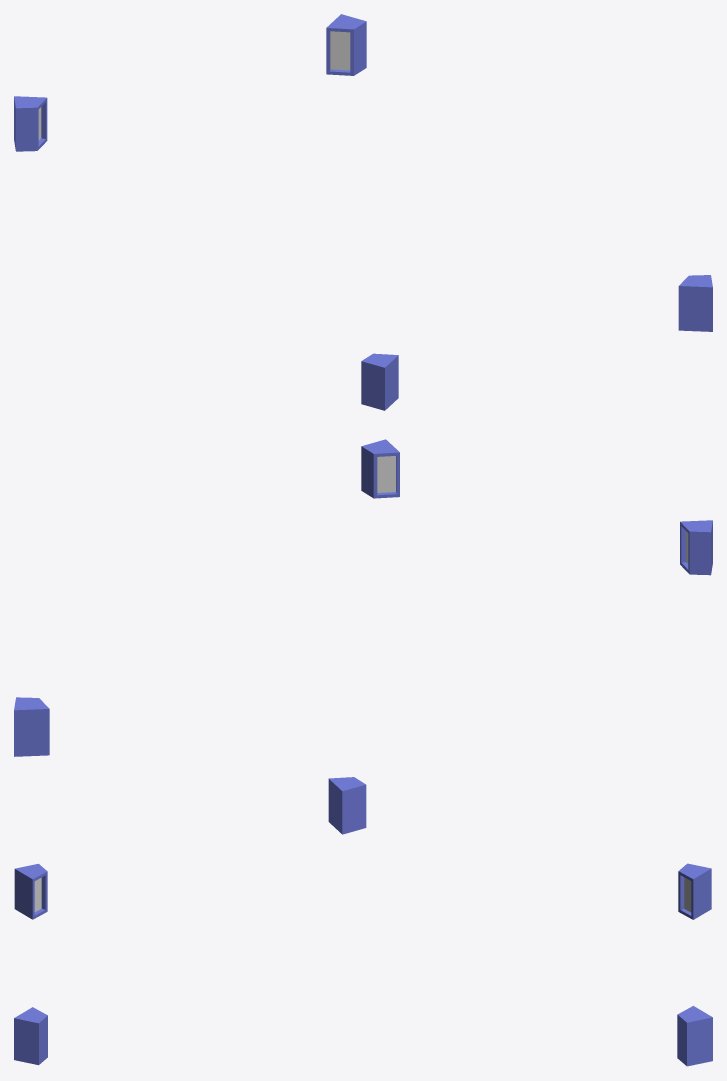
Rendered from StadiumLights.fbx.
The picture shows the model from 3 angles, top to bottom: view 1: azimuth 30°, elevation 25°; view 2: azimuth 150°, elevation 25°; view 3: azimuth 270°, elevation 25°; orthographic projection. The views are drawn at different scales.
Visible parts, largest first — view 1: Ground.003; view 2: Ground.003; view 3: Ground.003.
Boxes of the visible parts, x1=… form: Ground.003: x1=14, y1=14, x2=712, y2=410; Ground.003: x1=14, y1=439, x2=712, y2=834; Ground.003: x1=14, y1=863, x2=712, y2=1066.
Bounding box in the file's own units: 10.56 × 19.4 × 1.34.
